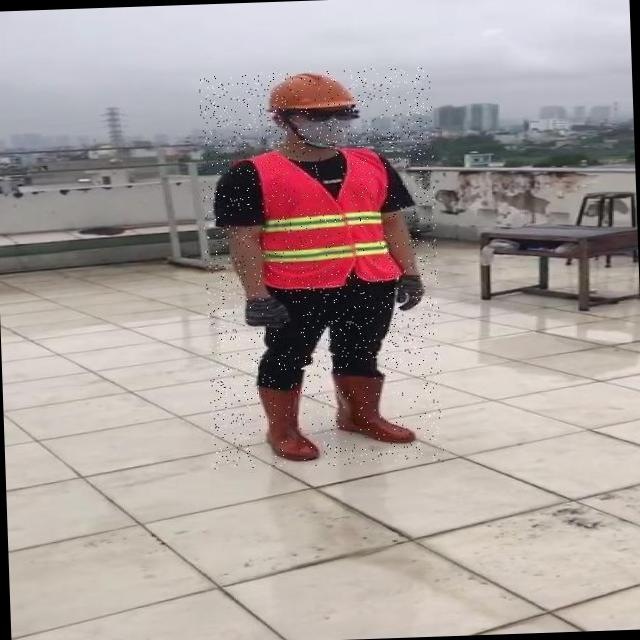hard_hat: (262, 70, 351, 112)
safety_vest: (241, 148, 403, 290)
vehicle: (198, 66, 444, 470)
work_boots: (330, 366, 424, 446), (254, 378, 324, 462)
